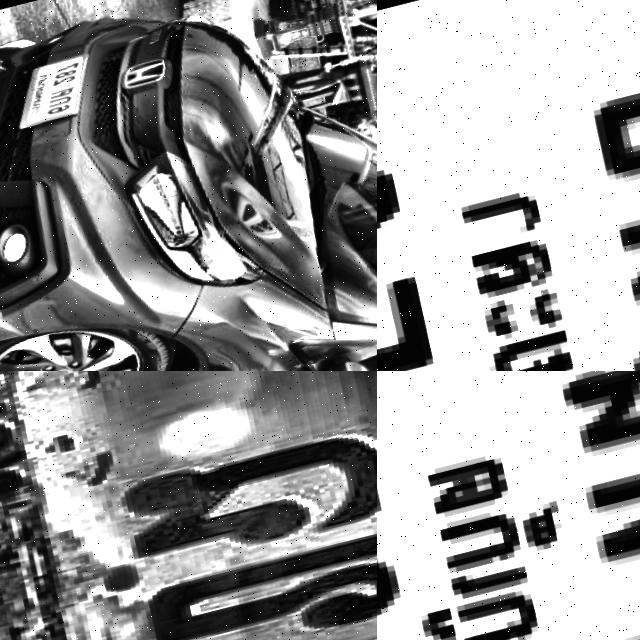license-plate: (0, 371, 377, 640), (377, 0, 640, 371), (377, 371, 640, 640), (5, 49, 105, 130)
